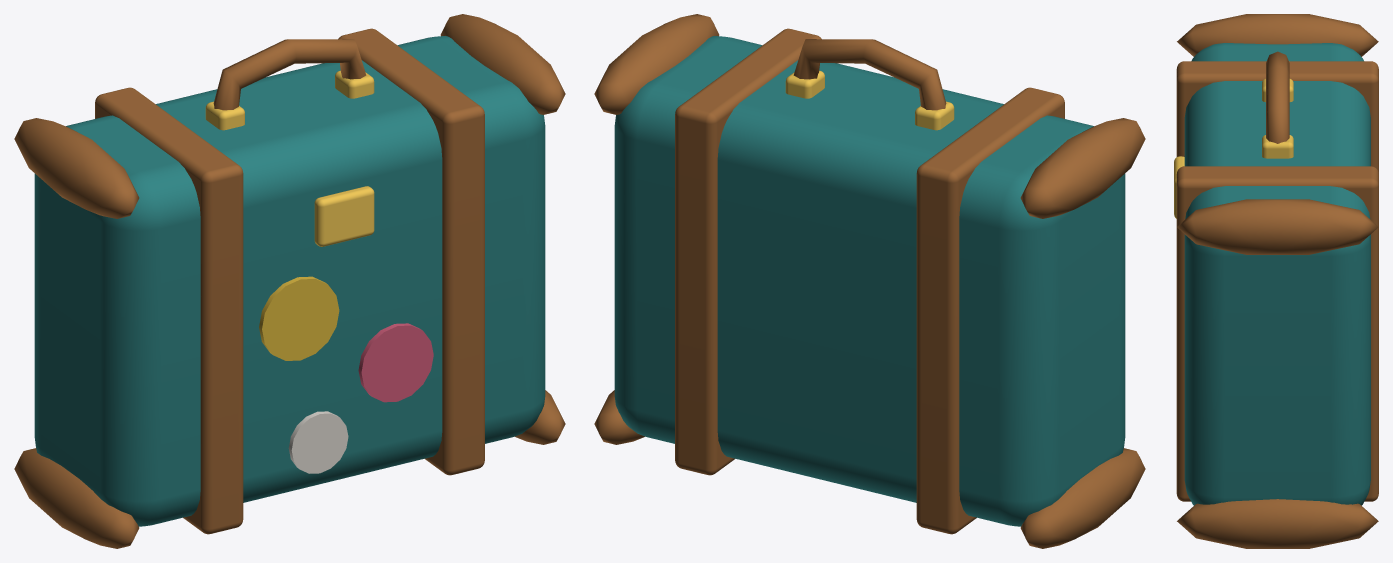
File: style_suitcase.glb
3 renders of one model, left to right at view 1: azimuth 30°, elevation 25°; view 2: azimuth 150°, elevation 25°; view 3: azimuth 270°, elevation 25°, orthographic. The views are drawn at different scales.
Parts seen in each view (by area): view 1: style_suitcase_main, style_suitcase_gloss; view 2: style_suitcase_main, style_suitcase_gloss; view 3: style_suitcase_main, style_suitcase_gloss.
Boxes of the visible parts, box(x1,y1,x2,y2) form: style_suitcase_main: box(14, 14, 565, 548); style_suitcase_gloss: box(205, 70, 374, 246); style_suitcase_main: box(594, 14, 1145, 548); style_suitcase_gloss: box(785, 70, 954, 130); style_suitcase_main: box(1176, 14, 1378, 548); style_suitcase_gloss: box(1174, 78, 1293, 218).
Size of the model in its own units: 0.3716 by 0.323 by 0.154.
